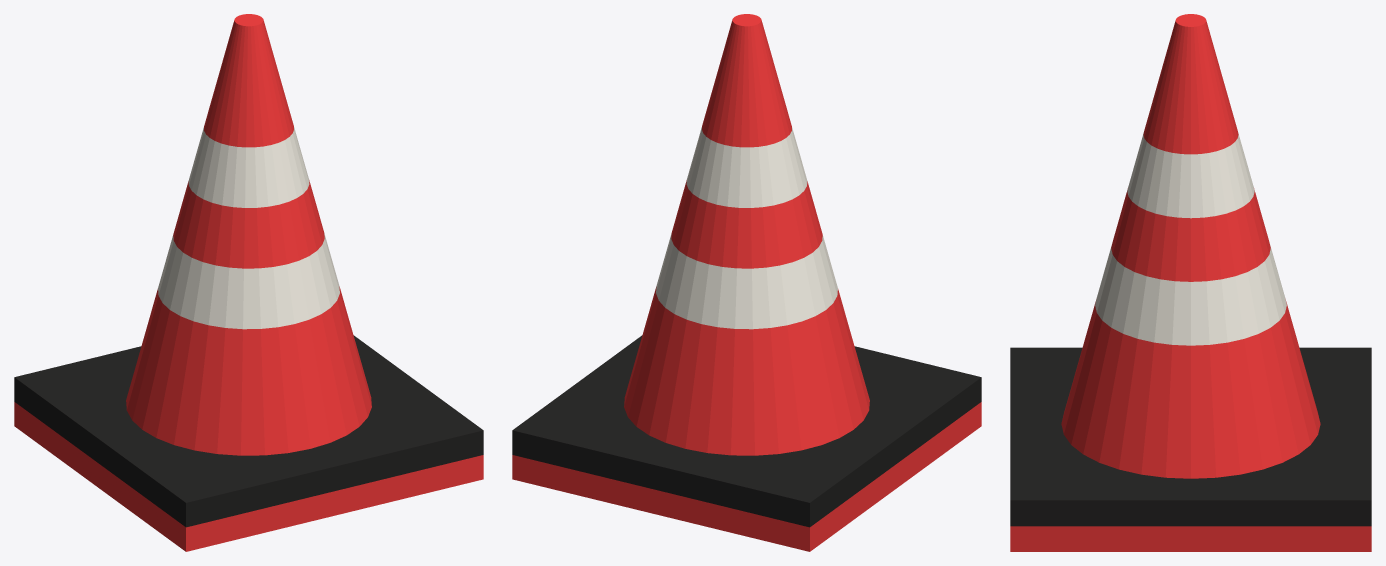
The model's file is Colorcone.obj.
3 renders of one model, left to right at view 1: azimuth 30°, elevation 25°; view 2: azimuth 150°, elevation 25°; view 3: azimuth 270°, elevation 25°, orthographic. The views are drawn at different scales.
Parts seen in each view (by area): view 1: 円柱; view 2: 円柱; view 3: 円柱.
Boxes of the visible parts, x1,y1,x2,y2 form: 円柱: [14, 14, 483, 551]; 円柱: [512, 14, 981, 551]; 円柱: [1010, 14, 1371, 551].
Size of the model in its own units: 2.5 by 3.48 by 2.5.
Materials: 1 (1 with a texture image).
